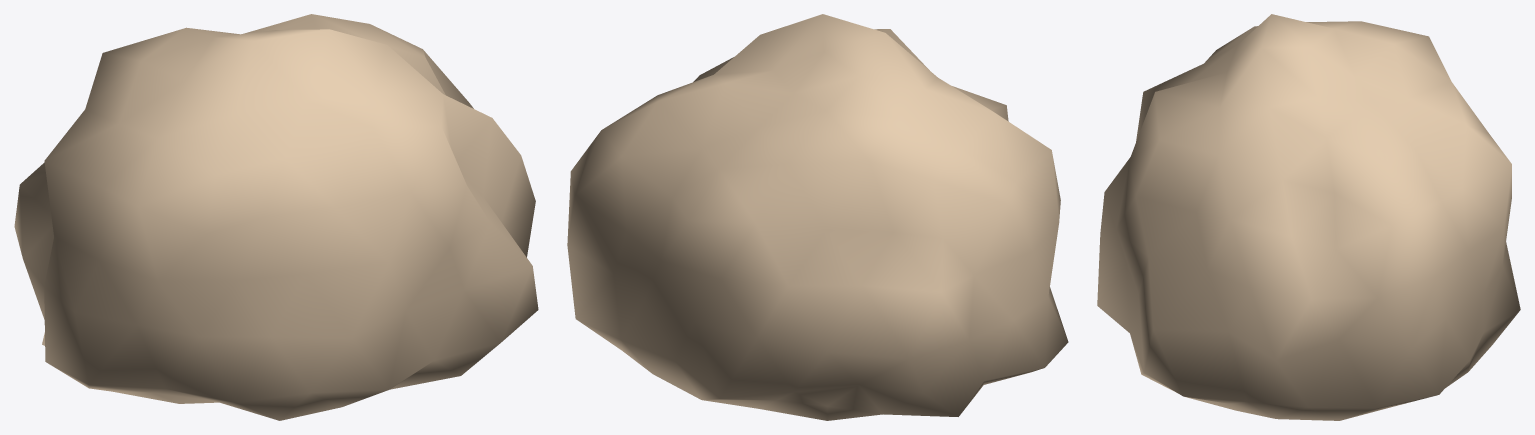
Rendered from rock-single.glb.
3 renders of one model, left to right at view 1: azimuth 30°, elevation 25°; view 2: azimuth 150°, elevation 25°; view 3: azimuth 270°, elevation 25°, orthographic. The views are drawn at different scales.
Visible parts, largest first — view 1: body; view 2: body; view 3: body.
Boxes of the visible parts, box(x1,y1,x2,y2) form: body: box(14, 14, 538, 420); body: box(567, 14, 1068, 420); body: box(1097, 14, 1520, 420).
Size of the model in its own units: 0.7 by 0.48 by 0.58.
